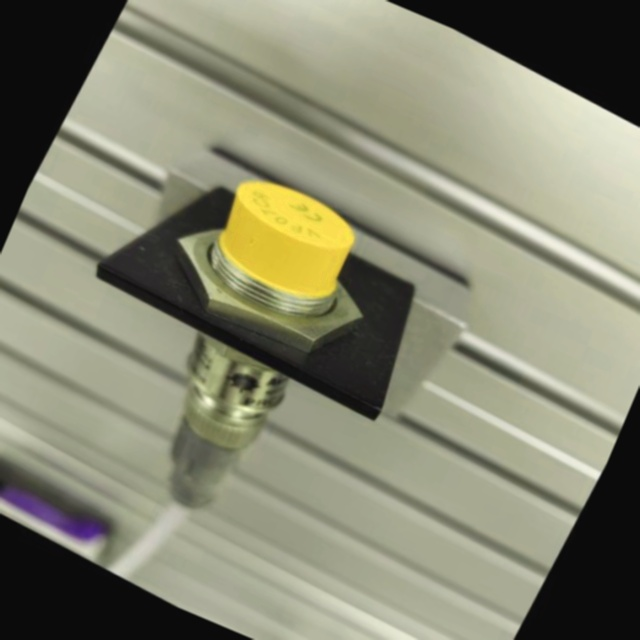inductive sensor: (0, 99, 515, 605)
